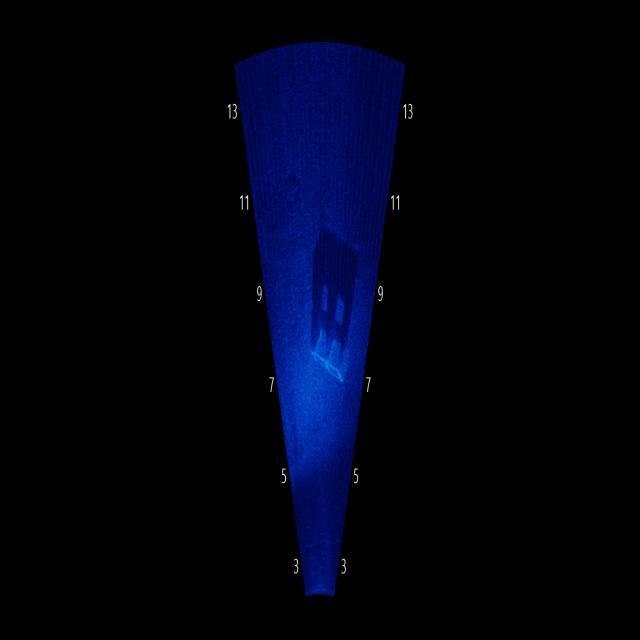square: (303, 307, 355, 400)
